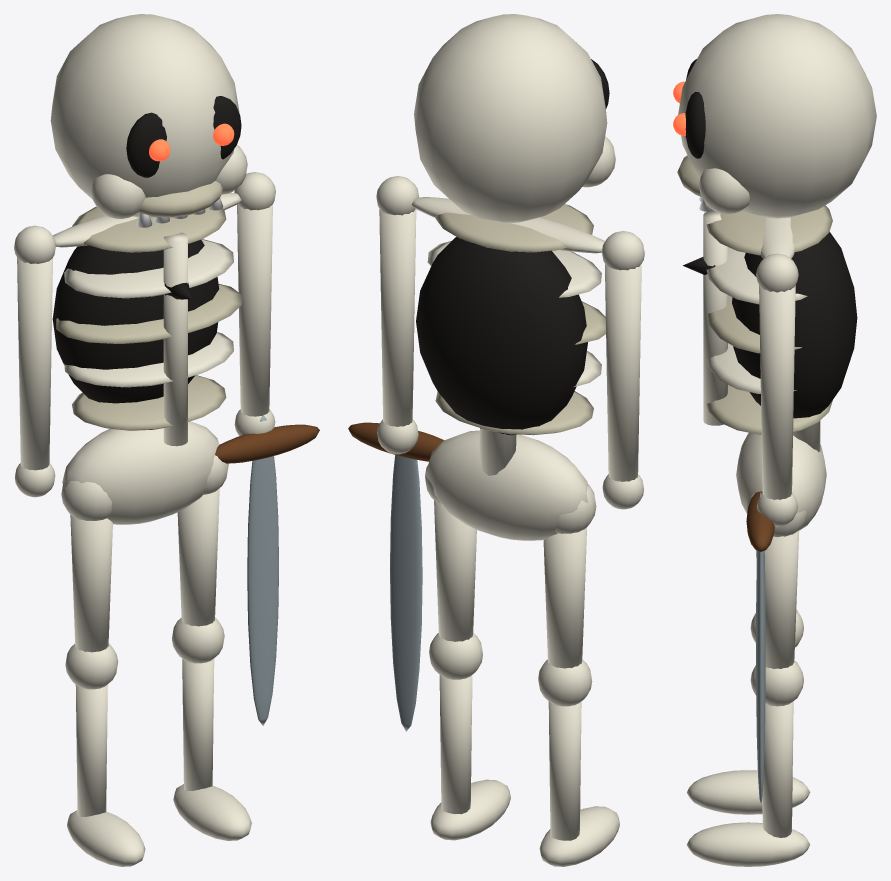
Rendered from skeleton.glb.
3 views of the same model, side by side, from view 1: azimuth 30°, elevation 25°; view 2: azimuth 150°, elevation 25°; view 3: azimuth 270°, elevation 25° (orthographic). The views are drawn at different scales.
Parts seen in each view (by area): view 1: skull, chest_dark, pelvis, blade, arm_L_m, arm_R_m, leg_L_thigh, leg_R_thigh, sternum, leg_R_shin, leg_L_shin, rib3 (+20 smaller); view 2: skull, chest_dark, pelvis, blade, arm_R_m, arm_L_m, leg_L_thigh, leg_R_thigh, leg_R_shin, leg_L_shin, rib4, leg_L_foot (+15 smaller); view 3: skull, chest_dark, arm_R_m, leg_R_thigh, leg_R_foot, leg_R_shin, pelvis, rib4, sternum, leg_L_foot, blade, rib0 (+13 smaller).
Boxes of the visible parts, box(x1,y1,x2,y2) form: skull: box(50, 14, 239, 217); chest_dark: box(52, 239, 219, 403); pelvis: box(62, 421, 219, 524); blade: box(247, 414, 278, 725); arm_L_m: box(17, 257, 52, 470); arm_R_m: box(237, 204, 272, 416); leg_L_thigh: box(70, 515, 112, 652); leg_R_thigh: box(177, 488, 219, 626); sternum: box(163, 232, 187, 446); leg_R_shin: box(182, 658, 214, 791); leg_L_shin: box(75, 684, 107, 817); rib3: box(64, 239, 233, 298); skull: box(414, 14, 607, 222); chest_dark: box(416, 237, 587, 435); pelvis: box(426, 430, 588, 540); blade: box(390, 455, 422, 731); arm_R_m: box(379, 209, 416, 426); arm_L_m: box(605, 264, 641, 481); leg_L_thigh: box(543, 527, 586, 668); leg_R_thigh: box(434, 500, 476, 641); leg_R_shin: box(439, 675, 472, 814); leg_L_shin: box(548, 701, 581, 840); rib4: box(435, 204, 593, 252); leg_L_foot: box(539, 806, 619, 866); skull: box(678, 14, 876, 218); chest_dark: box(732, 231, 857, 418); arm_R_m: box(759, 285, 795, 499); leg_R_thigh: box(756, 530, 799, 668); leg_R_foot: box(686, 822, 810, 866); leg_R_shin: box(762, 701, 793, 837); pelvis: box(736, 432, 826, 530); rib4: box(706, 205, 832, 255); sternum: box(703, 210, 727, 425); leg_L_foot: box(687, 770, 810, 814); blade: box(756, 492, 765, 804); rib0: box(706, 384, 832, 434).
Bounding box in the file's own units: 0.8317 × 2.18 × 0.4945.
